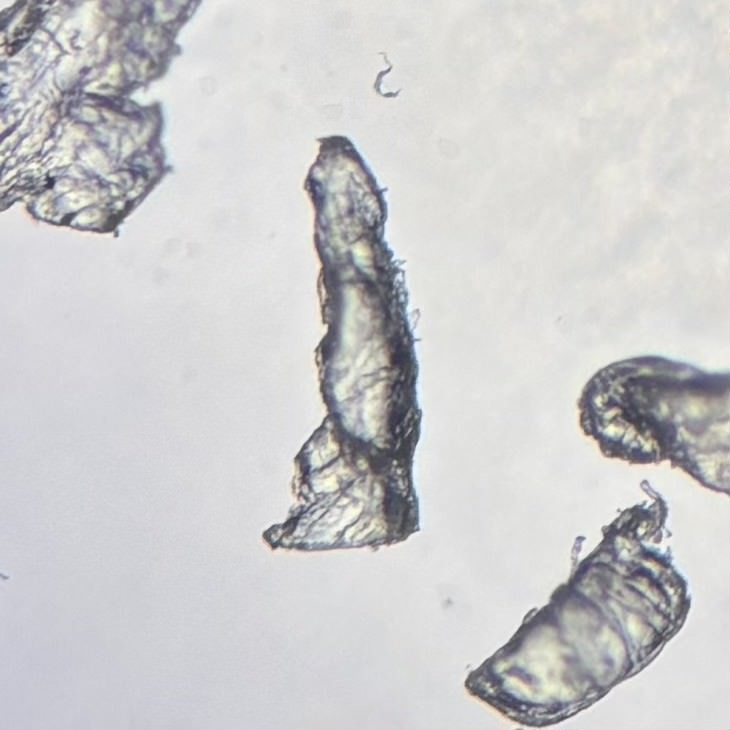microplastic: (260, 133, 426, 548), (465, 479, 694, 728), (1, 1, 204, 239), (577, 355, 730, 499)
